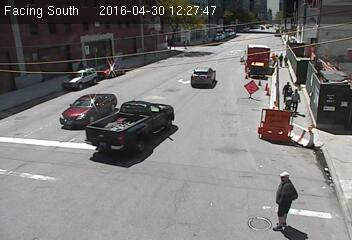neg: (150, 90, 187, 139), (67, 115, 102, 162), (119, 104, 144, 137), (57, 62, 78, 90), (94, 85, 114, 112), (79, 84, 93, 102), (197, 63, 211, 81), (102, 58, 115, 76)
pos: (258, 167, 308, 234), (292, 86, 313, 115), (271, 50, 287, 71), (283, 51, 297, 70)
